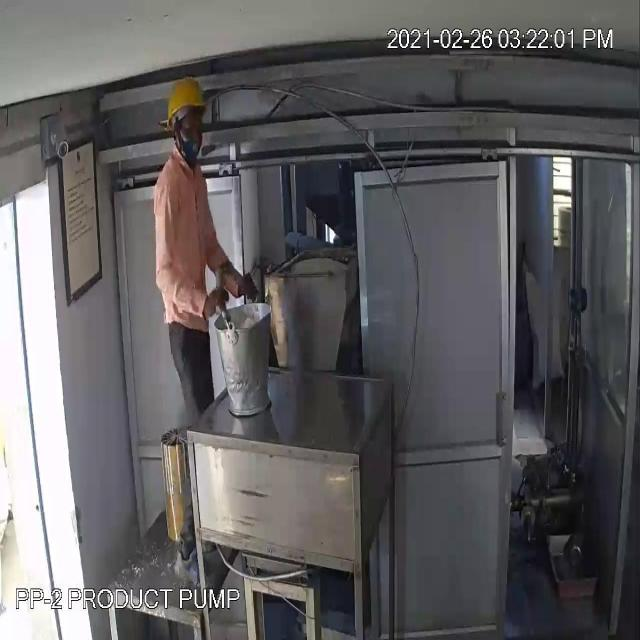helmet: (162, 72, 216, 137)
